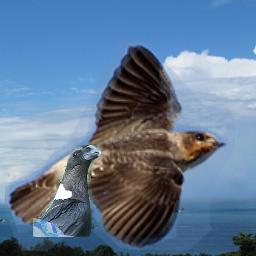Crow: (33, 145, 102, 237)
Swallow: (5, 41, 235, 251)
